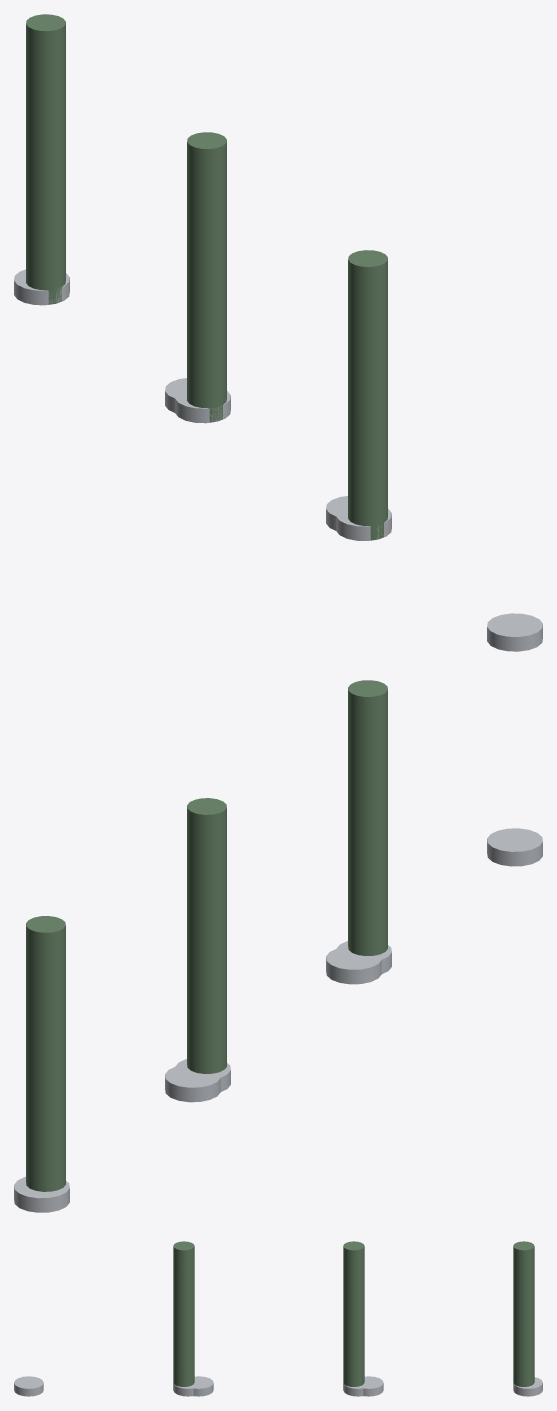
The model's file is pipeline.glb.
3 renders of one model, top to bottom at view 1: azimuth 30°, elevation 25°; view 2: azimuth 150°, elevation 25°; view 3: azimuth 270°, elevation 25°, orthographic. The views are drawn at different scales.
Visible parts, largest first — view 1: pipeline; view 2: pipeline; view 3: pipeline.
Part boxes in pixels (<box>): pipeline: <box>14,14,542,651</box>; pipeline: <box>14,680,542,1212</box>; pipeline: <box>14,1241,542,1396</box>.
Bounding box in the file's own units: 0.28 × 1.5 × 4.98.
